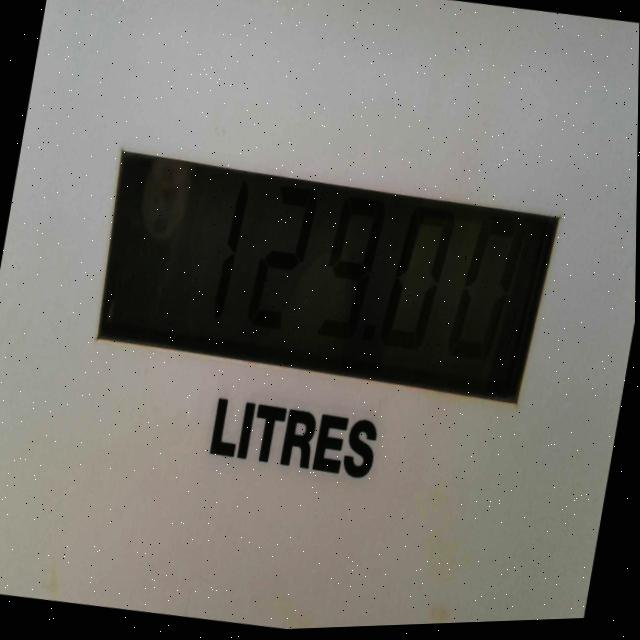.: (370, 334, 380, 353)
0: (450, 214, 522, 372), (382, 201, 451, 358)
1: (213, 181, 253, 324)
2: (252, 187, 319, 329)
9: (314, 194, 387, 342)
